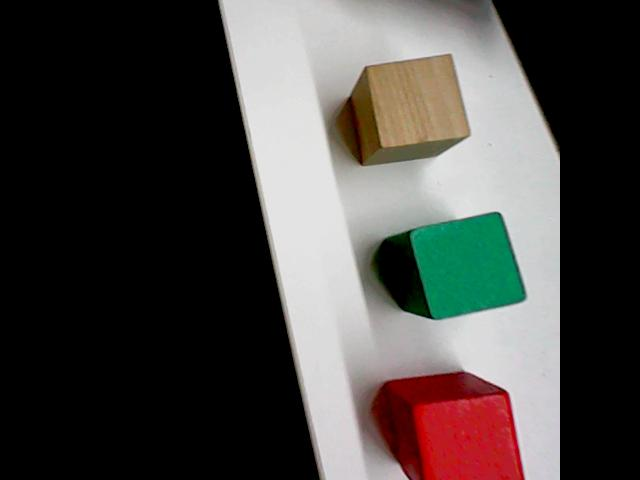green_box: (381, 208, 530, 323)
raw_box: (347, 50, 474, 168)
red_box: (382, 367, 530, 480)
